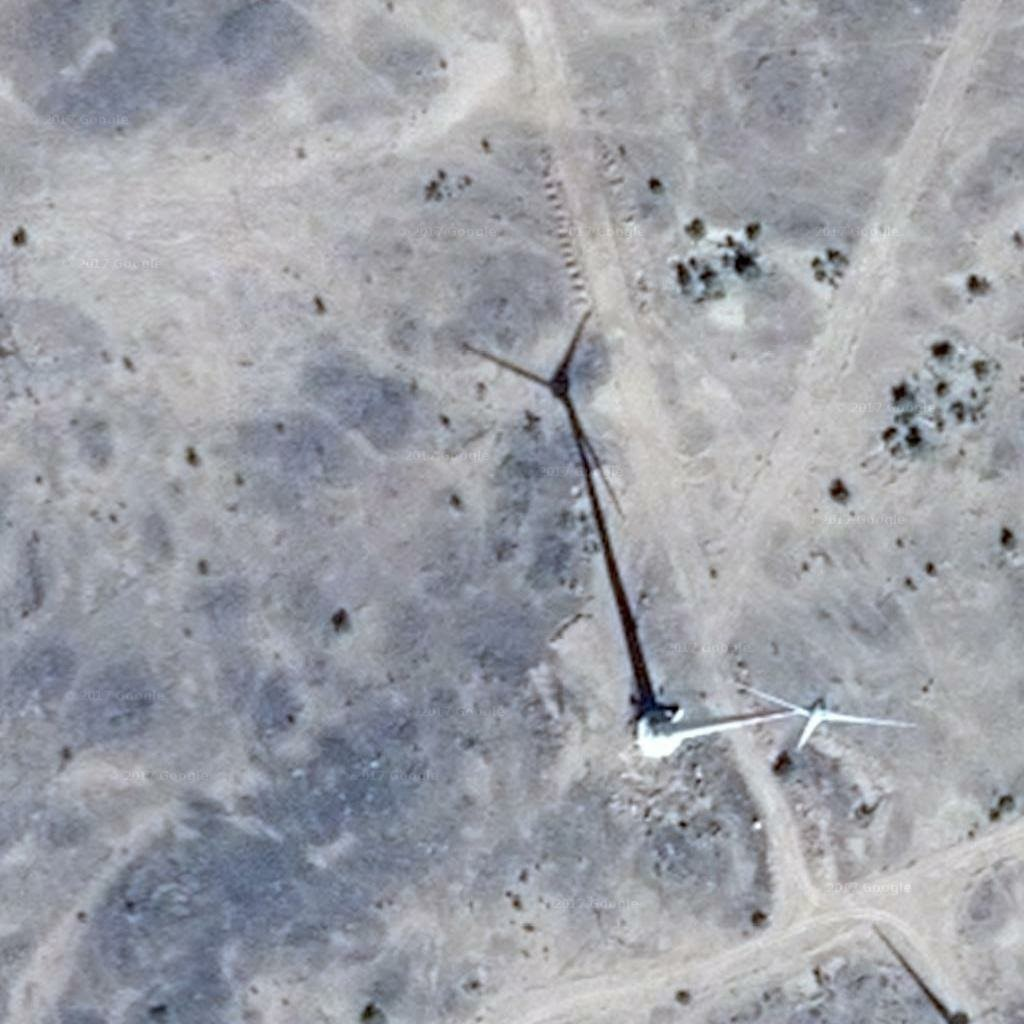Windmill: (467, 307, 667, 670)
